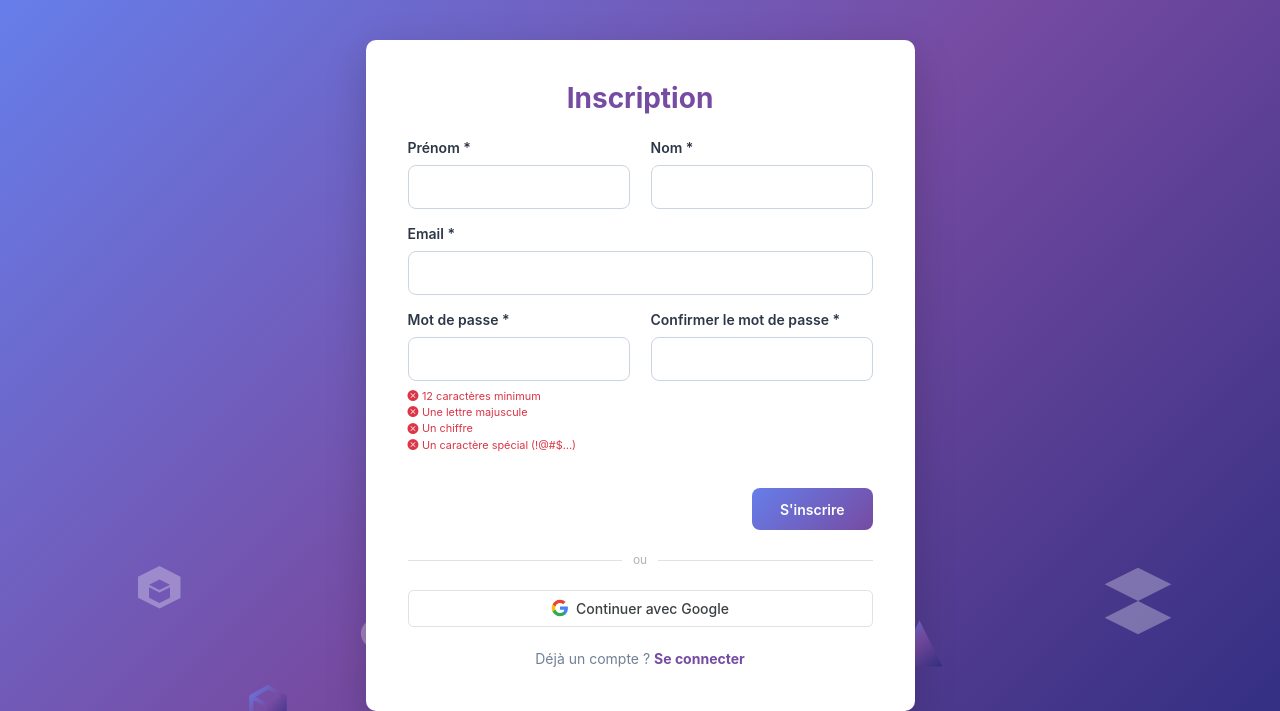
Test: Page Register › affiche une erreur si les mots de passe ne correspondent pas
This screenshot has width=1280, height=711.
Type "Jane" into the field labelled "Prénom *" at (518, 187), box [408,165,630,209]
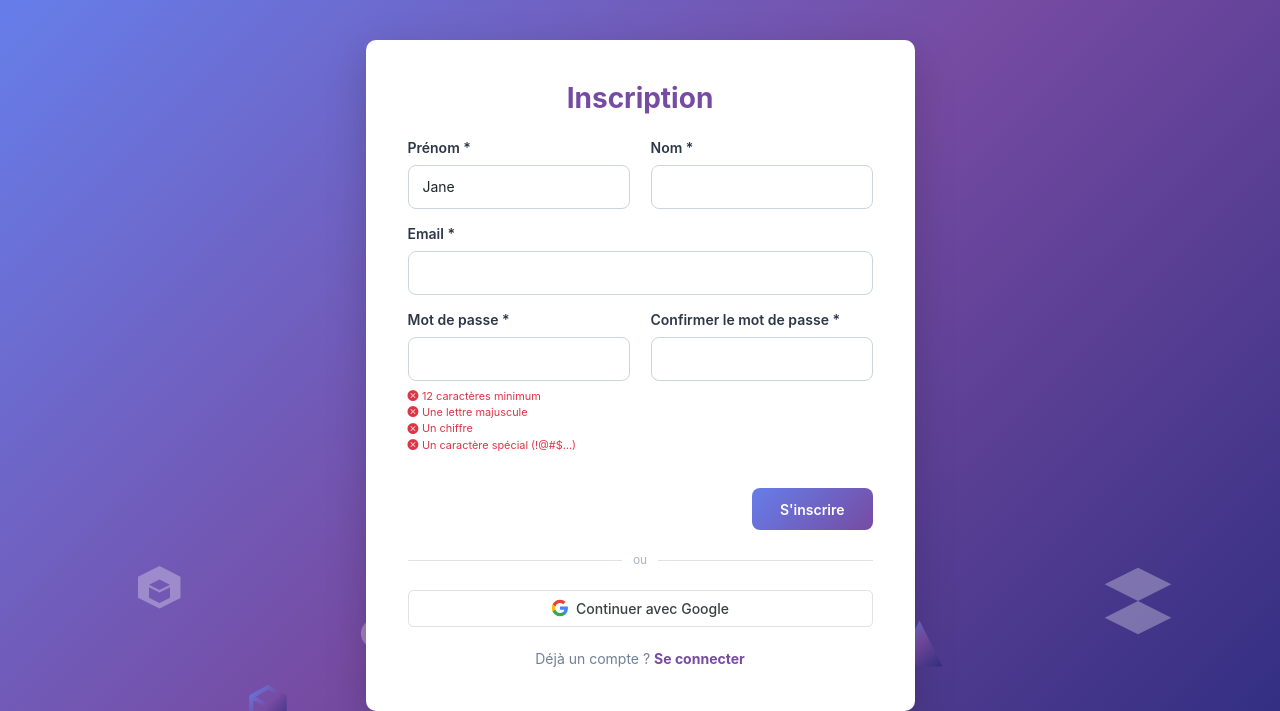
Type "Doe" into the field labelled "Nom *" at (762, 187), box [650,165,872,209]
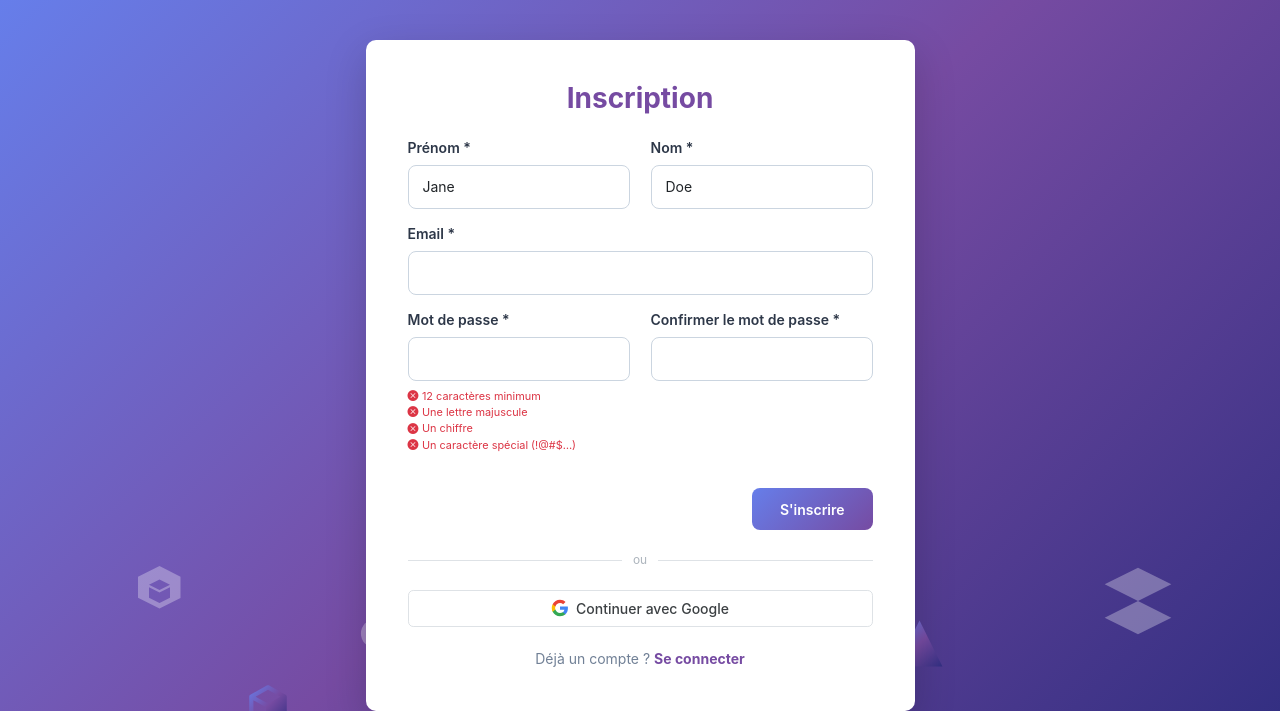
Type "jane@example.com" into the field labelled "Email *" at (640, 273), box [408,251,872,295]
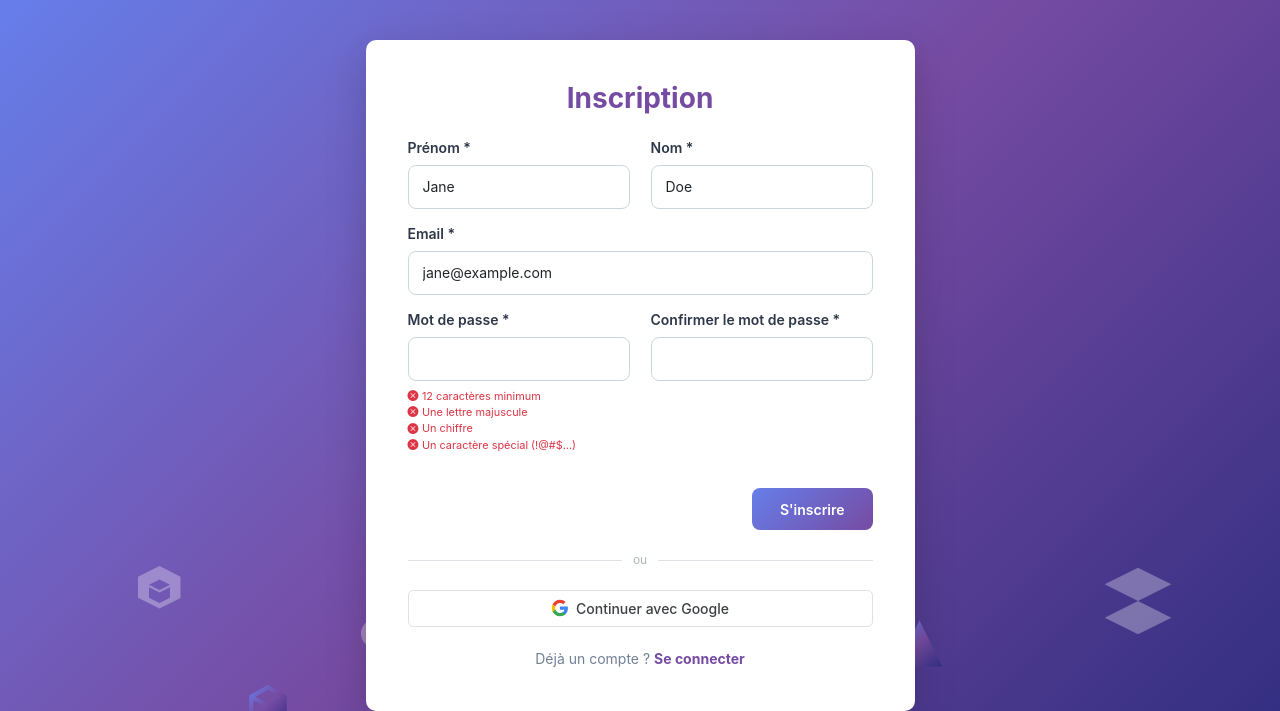
Type "Password1234!" into the password field labelled "Mot de passe *" at (518, 359), box [408,337,630,381]
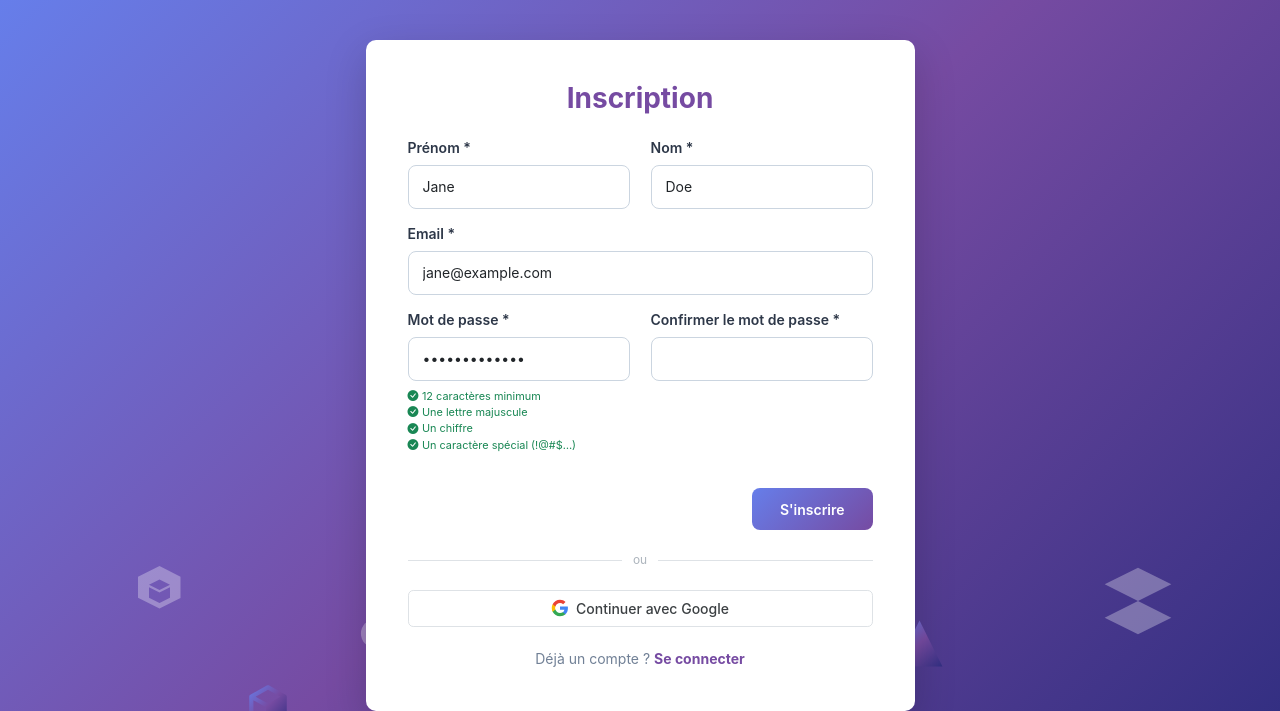
Type "Autre1234!" into the password field labelled "Confirmer le mot de passe *" at (762, 359), box [650,337,872,381]
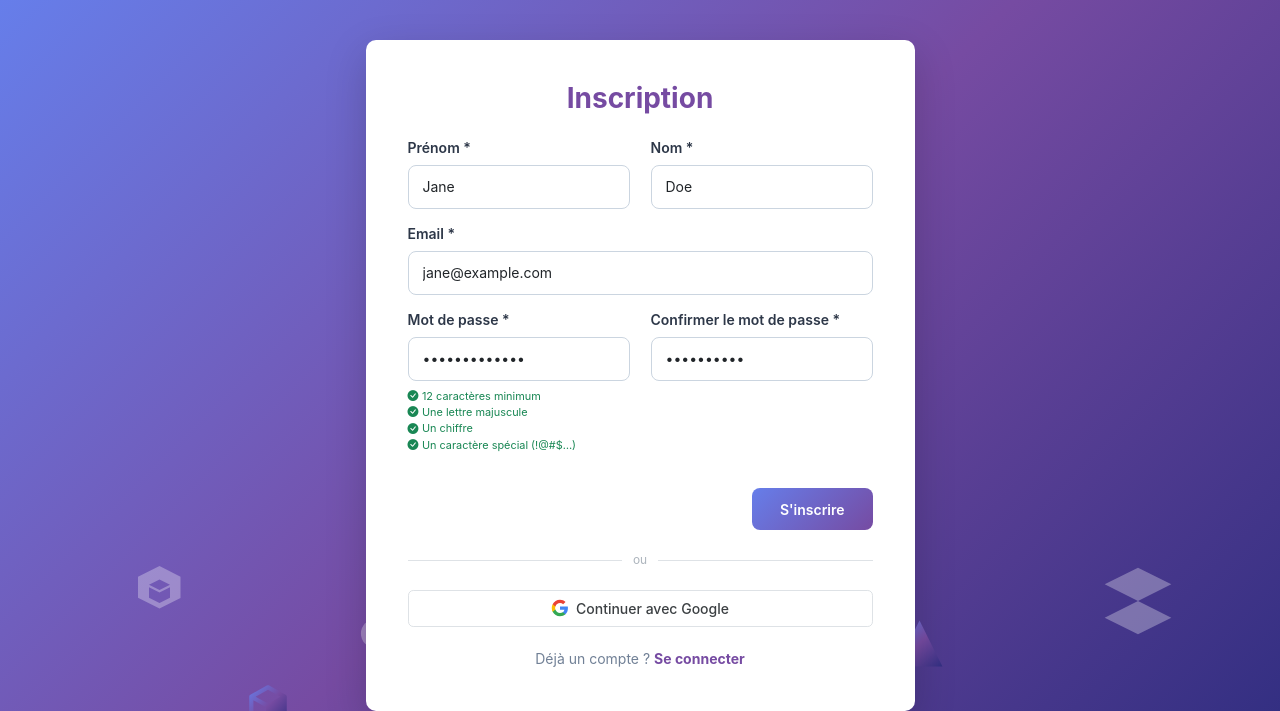
Click the button "S'inscrire" at (812, 509), box [752,488,872,530]
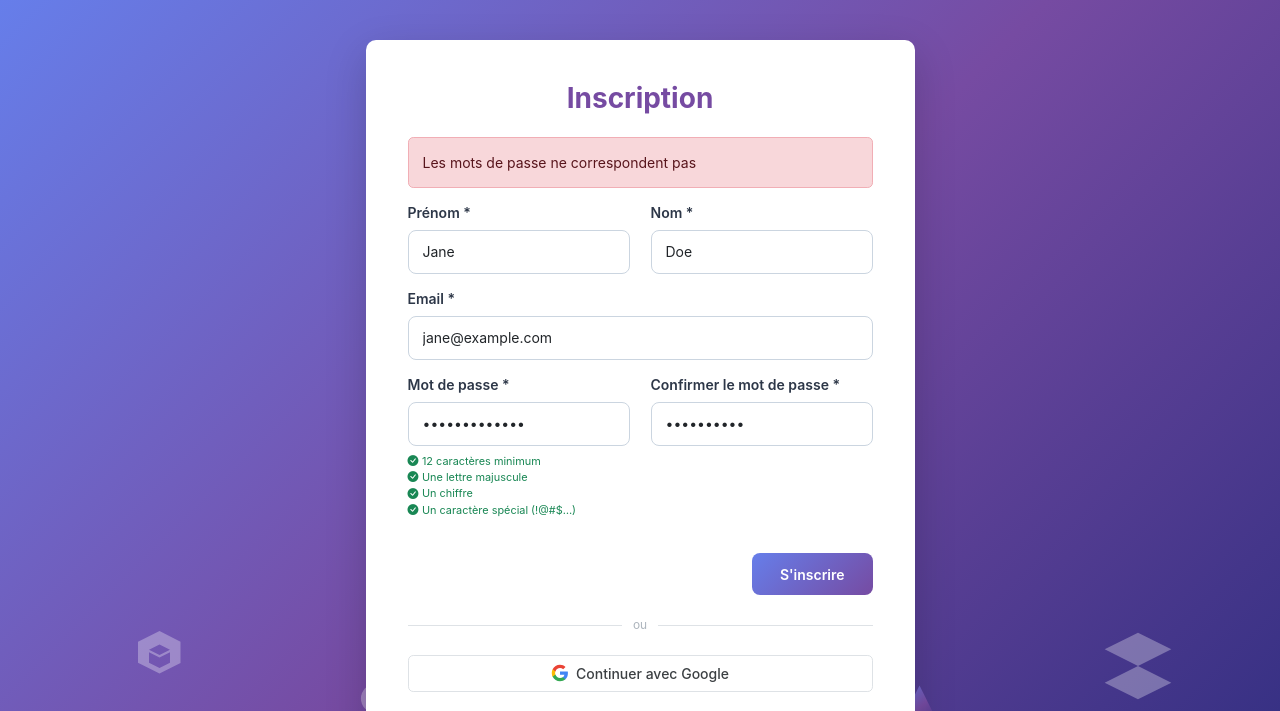
Expected: the text "Les mots de passe ne correspondent pas" is shown, [408,137,872,188]
